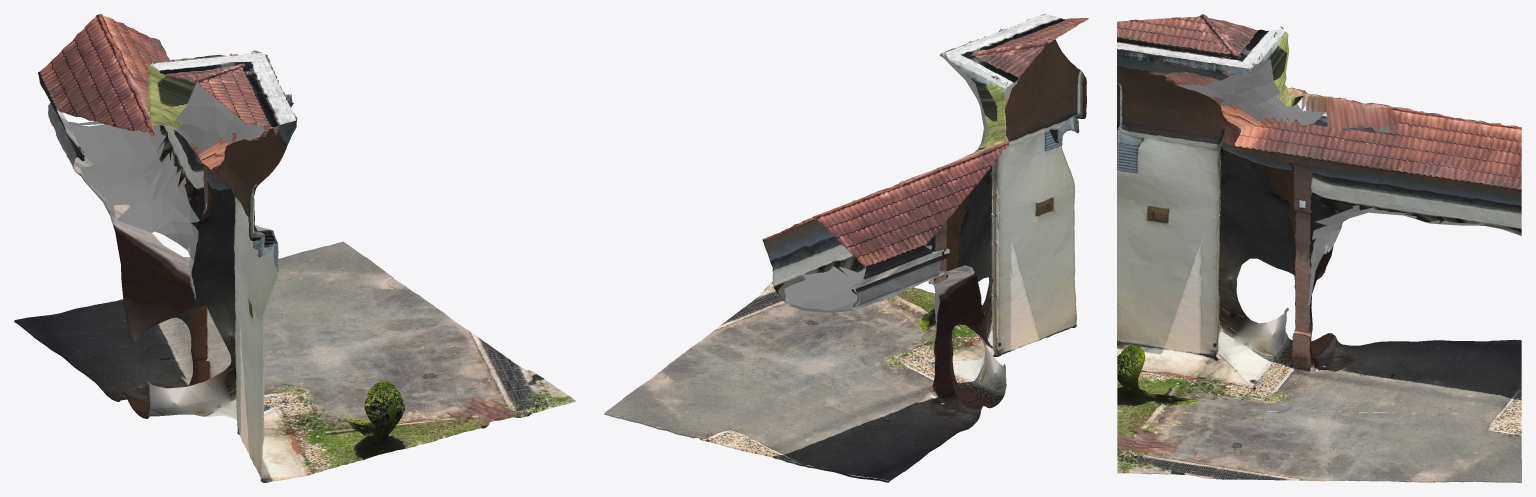
3 renders of one model, left to right at view 1: azimuth 30°, elevation 25°; view 2: azimuth 150°, elevation 25°; view 3: azimuth 270°, elevation 25°, orthographic. The views are drawn at different scales.
Visible parts, largest first — view 1: node_142; view 2: node_142; view 3: node_142.
Boxes of the visible parts, <box> form: node_142: <box>14,14,575,482</box>; node_142: <box>604,14,1088,482</box>; node_142: <box>1117,14,1521,482</box>.
Bounding box in the file's own units: 9 × 10 × 11.
Materials: 1 (1 with a texture image).
